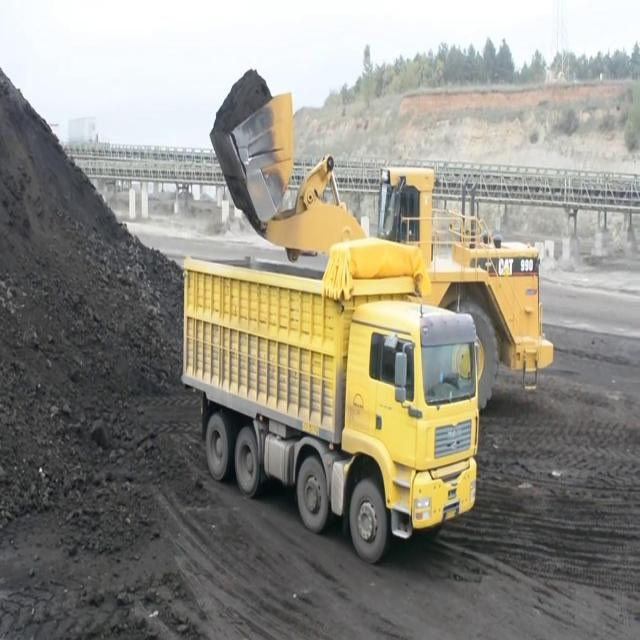buldozerpayloadergrader: (207, 85, 567, 422)
dump_truck: (168, 229, 484, 570)
